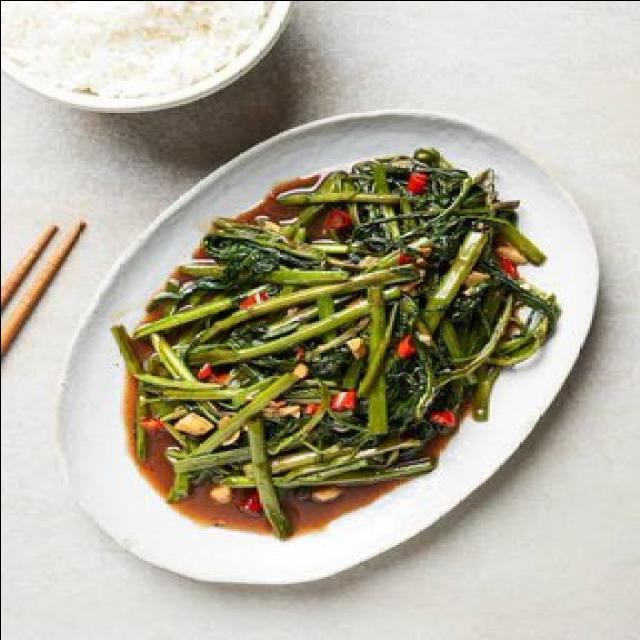tumis kangkung: (111, 148, 558, 544)
